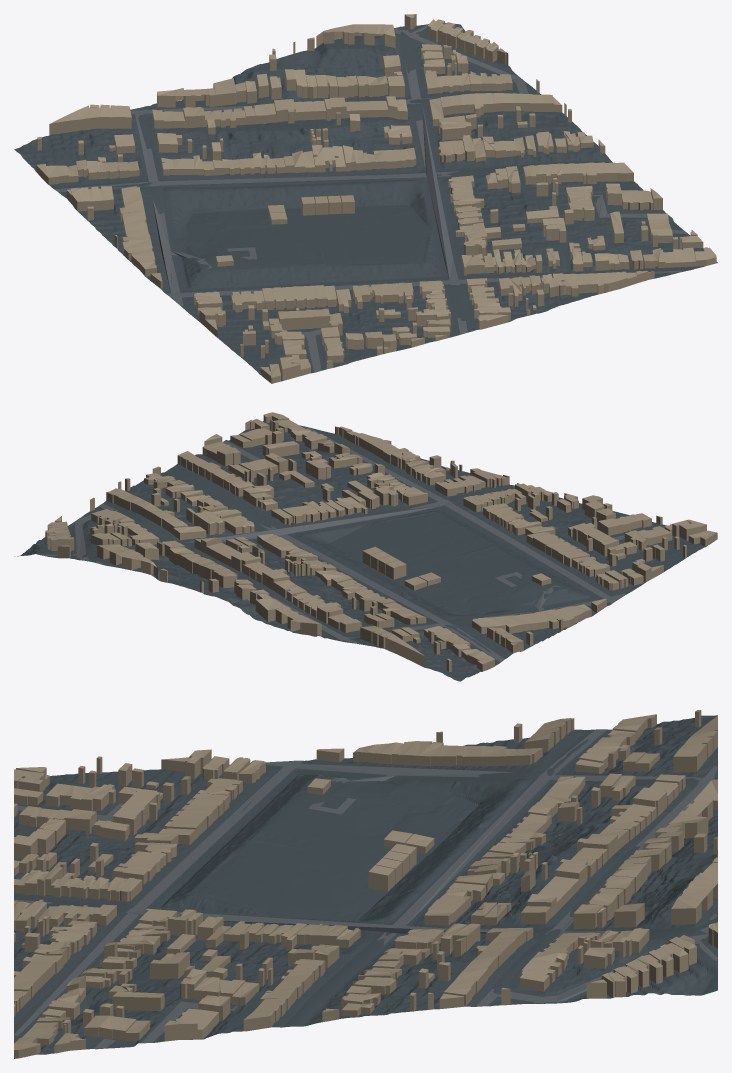
Rendered from epsg26910-1429-10868.lod0.glb.
3 views of the same model, one above another, from view 1: azimuth 30°, elevation 25°; view 2: azimuth 150°, elevation 25°; view 3: azimuth 270°, elevation 25° (orthographic). The views are drawn at different scales.
Visible parts, largest first — view 1: epsg26910-1429-10868-lod0; view 2: epsg26910-1429-10868-lod0; view 3: epsg26910-1429-10868-lod0.
Boxes of the visible parts, box(x1,y1,x2,y2) form: epsg26910-1429-10868-lod0: box(14, 14, 717, 383); epsg26910-1429-10868-lod0: box(14, 412, 717, 681); epsg26910-1429-10868-lod0: box(14, 710, 717, 1058).
Size of the model in its own units: 384 by 73.29 by 384.
